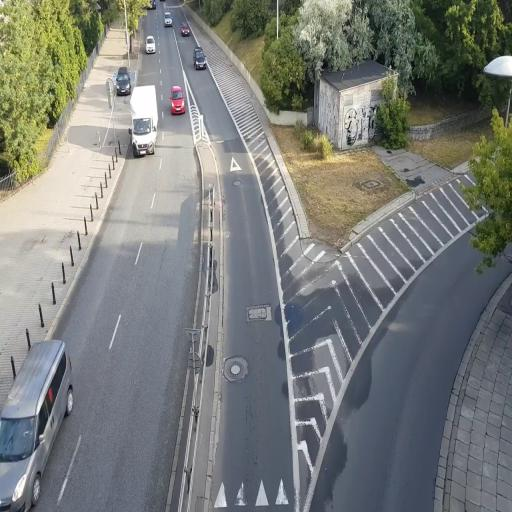vehicle: (0, 336, 74, 509), (130, 84, 158, 156), (130, 86, 158, 156), (131, 115, 157, 157), (114, 68, 132, 96), (170, 86, 186, 114), (194, 48, 206, 70), (145, 36, 155, 54), (180, 24, 190, 38)
